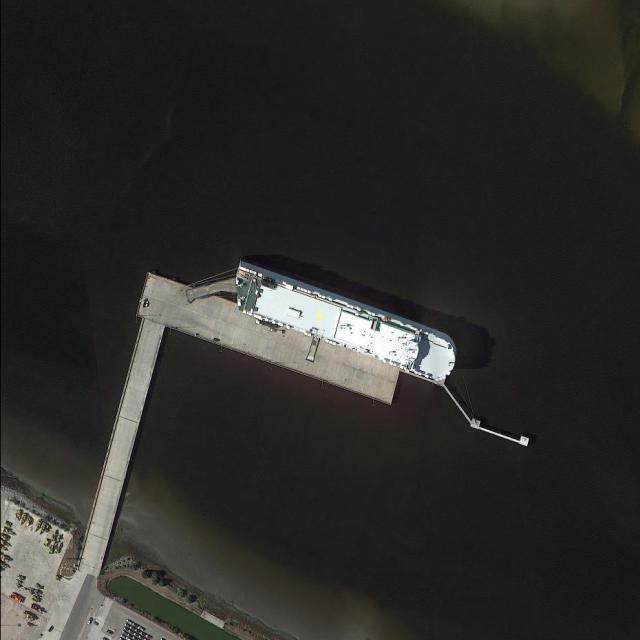Dock: (131, 272, 408, 406)
RoRo: (229, 264, 463, 385)
